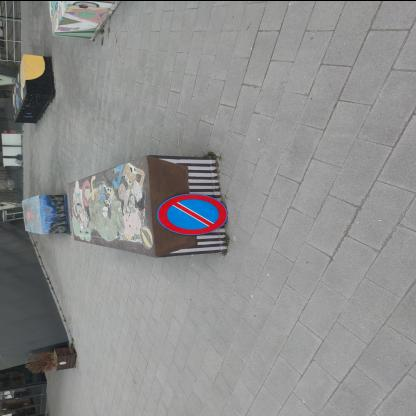No Waiting: (158, 194, 228, 235)
